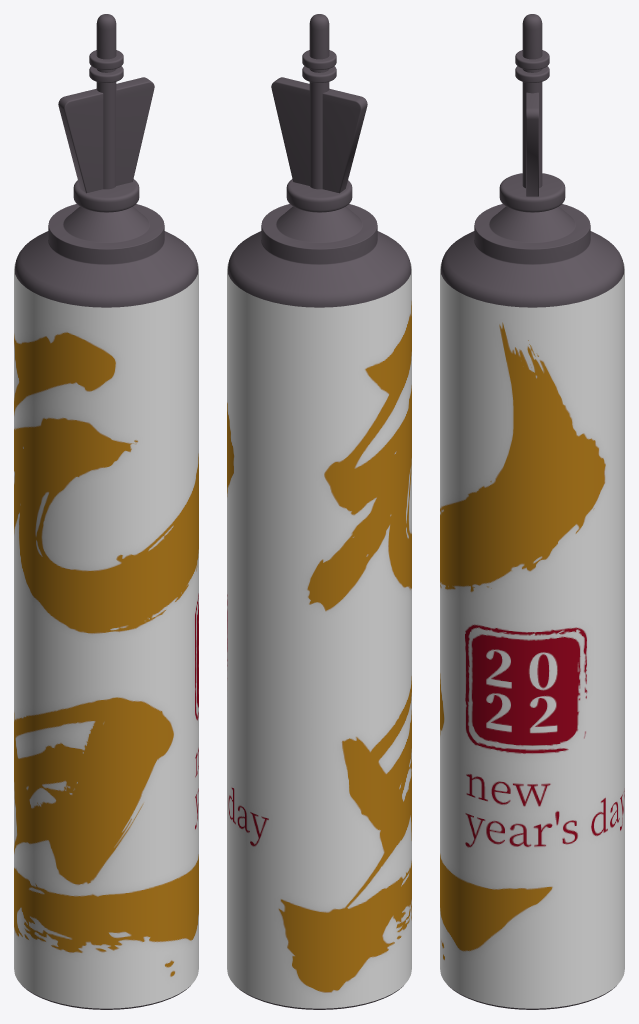
3 views of the same model, side by side, from view 1: azimuth 30°, elevation 25°; view 2: azimuth 150°, elevation 25°; view 3: azimuth 270°, elevation 25° (orthographic).
Parts seen in each view (by area): view 1: 贴图, 软管; view 2: 贴图, 软管; view 3: 贴图, 软管.
Boxes of the visible parts, bbox=[...] form: 贴图: bbox=[14, 262, 198, 1008]; 软管: bbox=[15, 14, 197, 1009]; 贴图: bbox=[227, 262, 411, 1008]; 软管: bbox=[228, 14, 410, 1009]; 贴图: bbox=[440, 262, 624, 1008]; 软管: bbox=[441, 14, 623, 1009].
Size of the model in its own units: 14 by 80 by 14.
2 materials, 1 textured.
